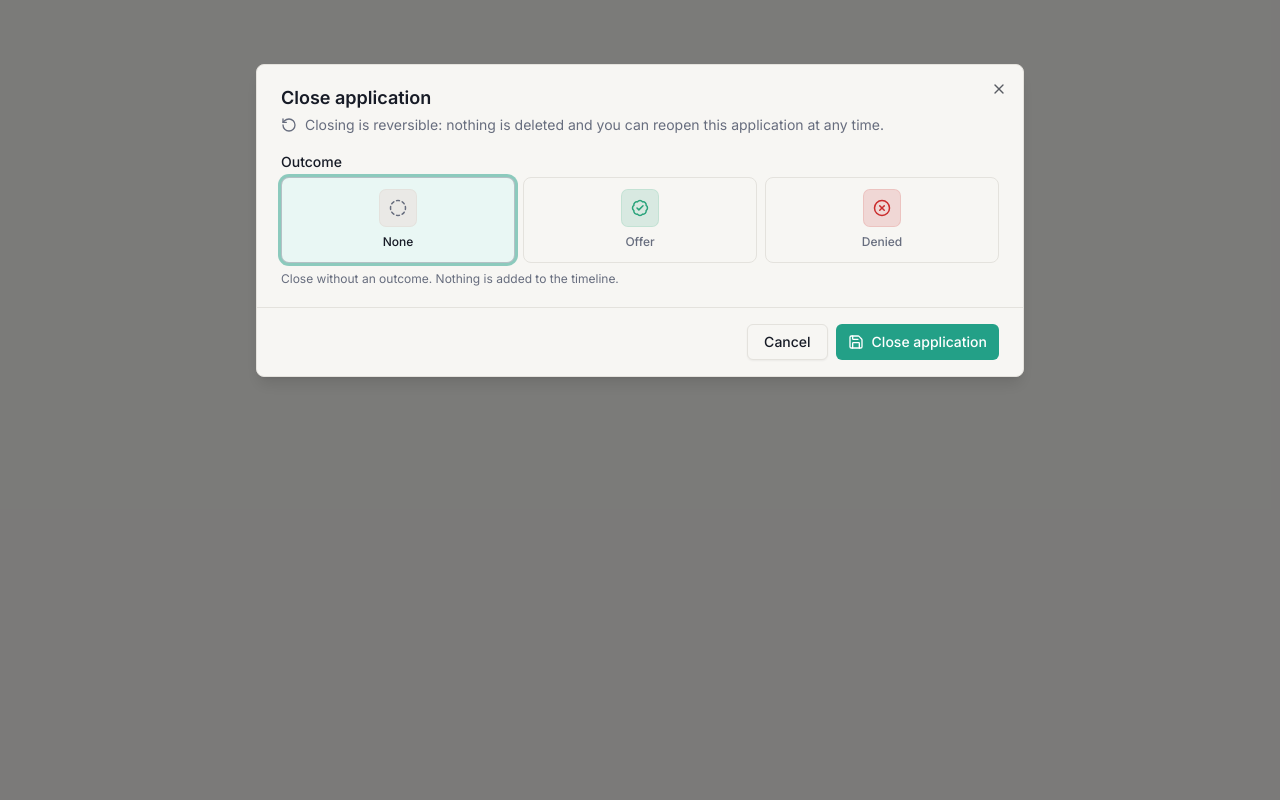
TimelineEventForm close mode — outcome date › defaults the date to today and disables tomorrow
This screenshot has width=1280, height=800.
Click the radio button labelled "Denied" at (882,220), box top-left (765, 177), bottom-right (999, 263)
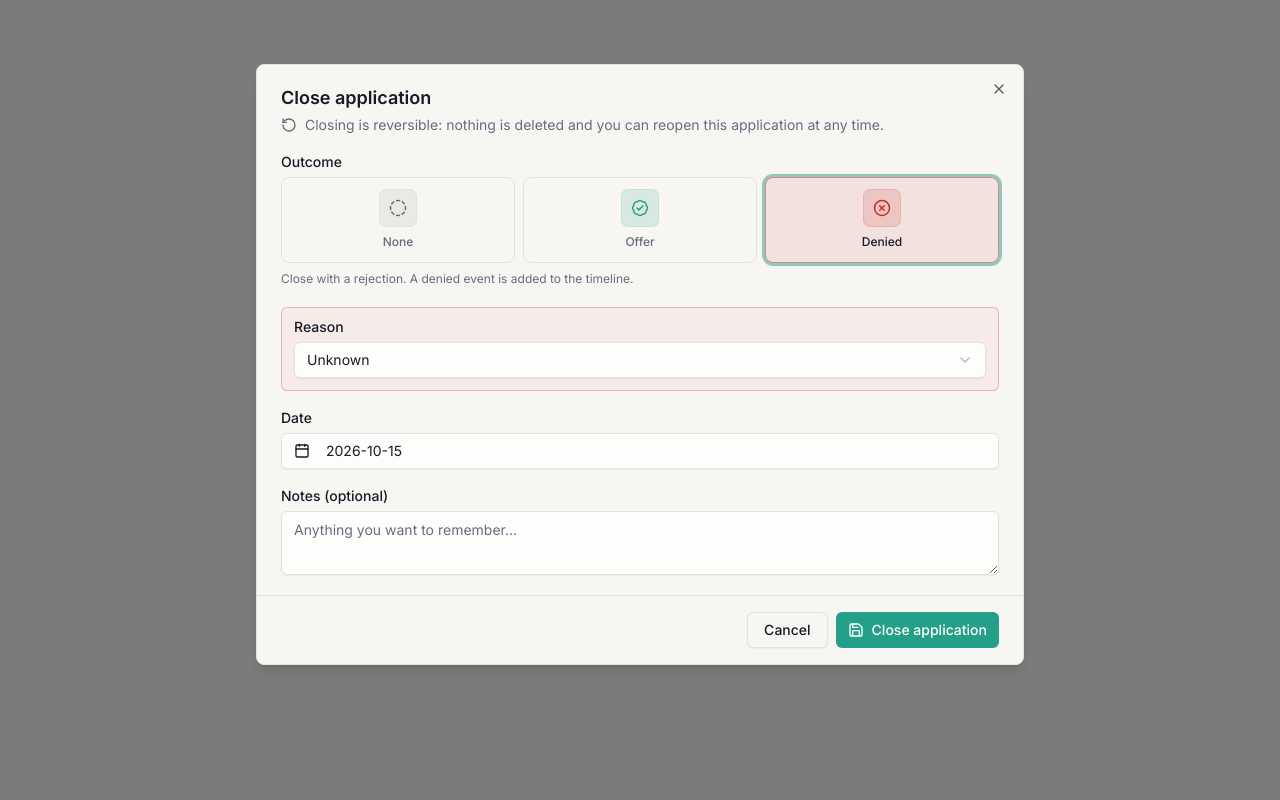
Expected: the button named "Date" reads "2026-10-15"
Click the button named "Date" at (364,450), box top-left (281, 433), bottom-right (999, 469)
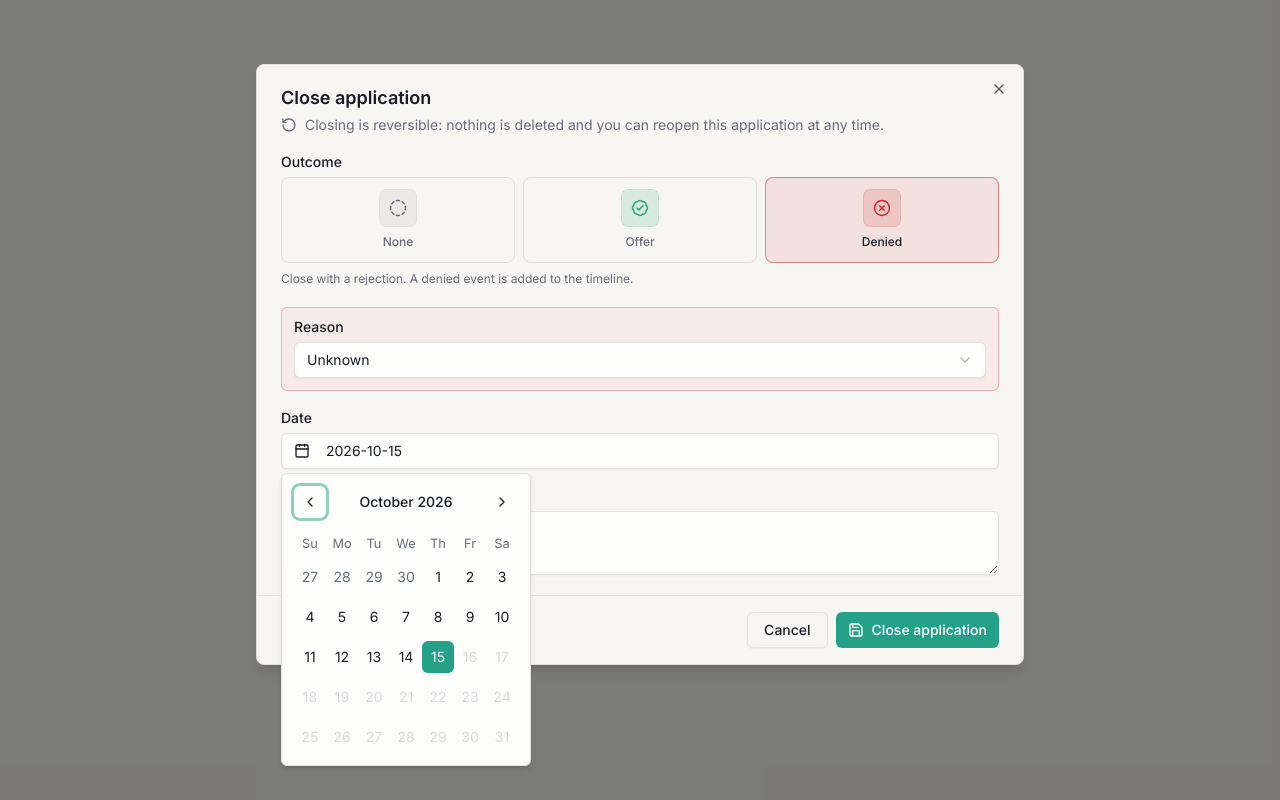
Expected: the button "15" is enabled, top-left (422, 641), bottom-right (454, 673)
Expected: the button "16" is disabled, top-left (454, 641), bottom-right (486, 673)
